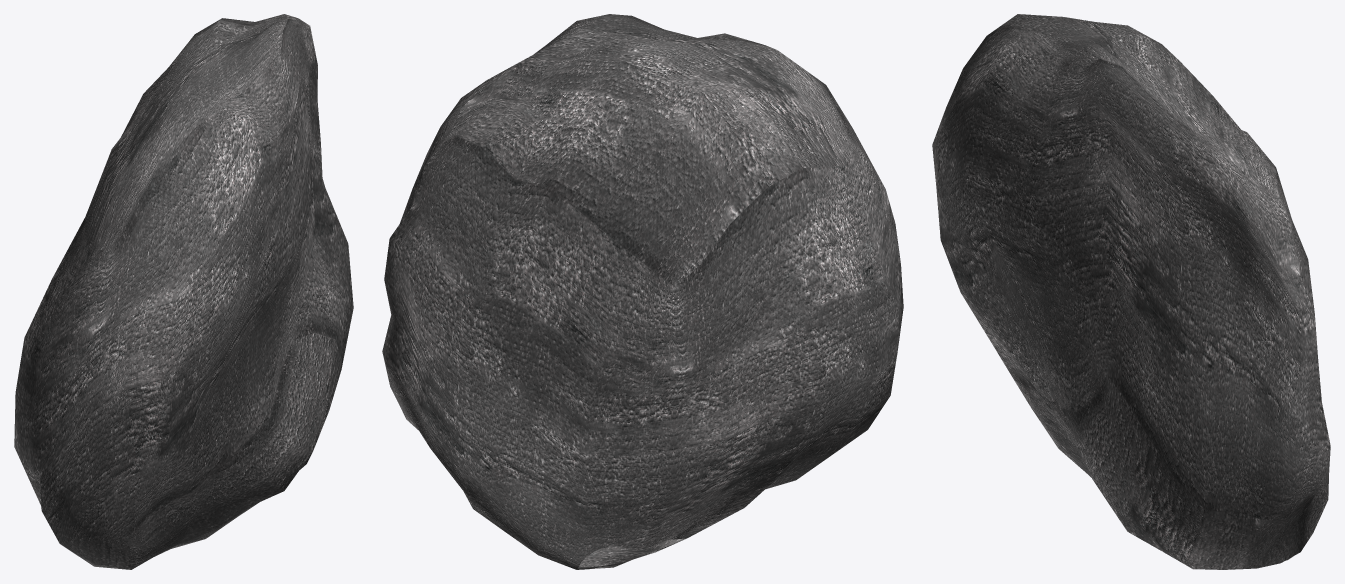
File: stone_02.FBX
3 renders of one model, left to right at view 1: azimuth 30°, elevation 25°; view 2: azimuth 150°, elevation 25°; view 3: azimuth 270°, elevation 25°, orthographic. The views are drawn at different scales.
Parts seen in each view (by area): view 1: stone02; view 2: stone02; view 3: stone02.
Part boxes in pixels (x1,y1,x2,y2): stone02: (14,14,353,569); stone02: (382,14,903,569); stone02: (932,14,1330,569).
Size of the model in its own units: 40.35 by 32.57 by 48.5.
